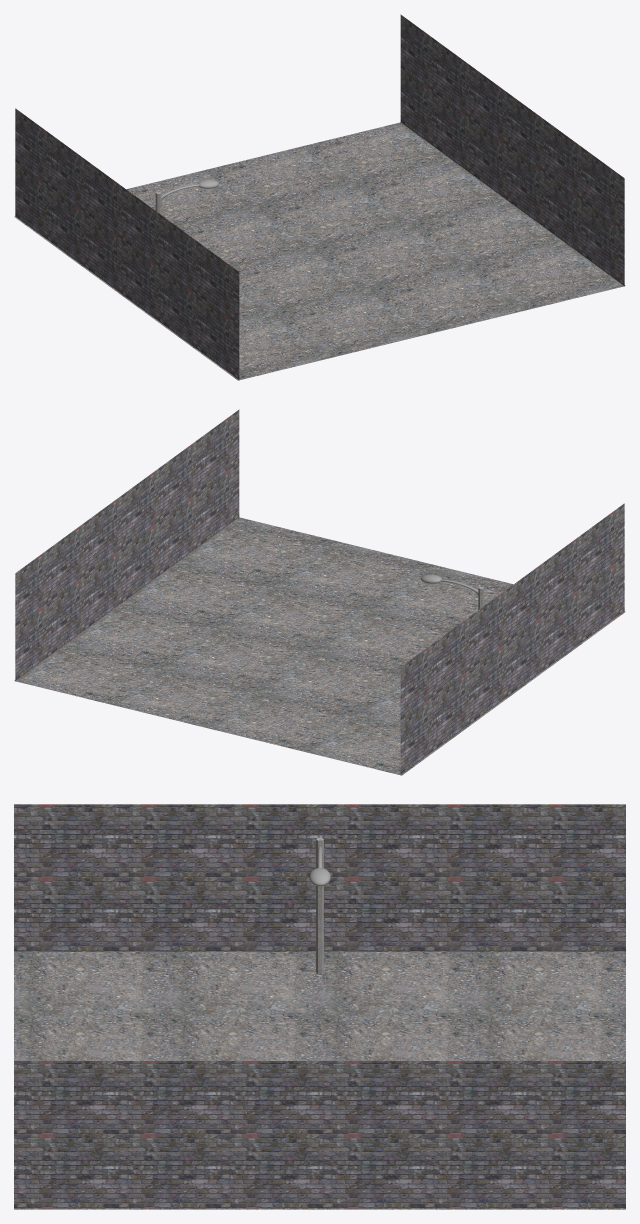
The picture shows the model from 3 angles, top to bottom: view 1: azimuth 30°, elevation 25°; view 2: azimuth 150°, elevation 25°; view 3: azimuth 270°, elevation 25°; orthographic projection. The views are drawn at different scales.
Parts seen in each view (by area): view 1: ground, wall_right, wall_left; view 2: ground, wall_right, wall_left; view 3: wall_right, wall_left, ground, Pole_Cylinder_001.
Boxes of the visible parts, box(x1,y1,x2,y2) form: ground: box(14, 122, 625, 380); wall_right: box(400, 14, 624, 286); wall_left: box(15, 108, 239, 379); ground: box(14, 517, 625, 775); wall_right: box(15, 409, 239, 681); wall_left: box(400, 503, 624, 774); wall_right: box(14, 1061, 625, 1208); wall_left: box(14, 804, 625, 951); ground: box(14, 952, 625, 1209); Pole_Cylinder_001: box(316, 837, 323, 974).
Size of the model in its own units: 30 by 30 by 8.02.
